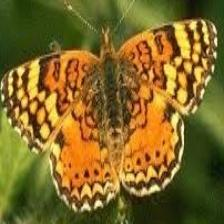butterfly: (2, 19, 218, 212)
